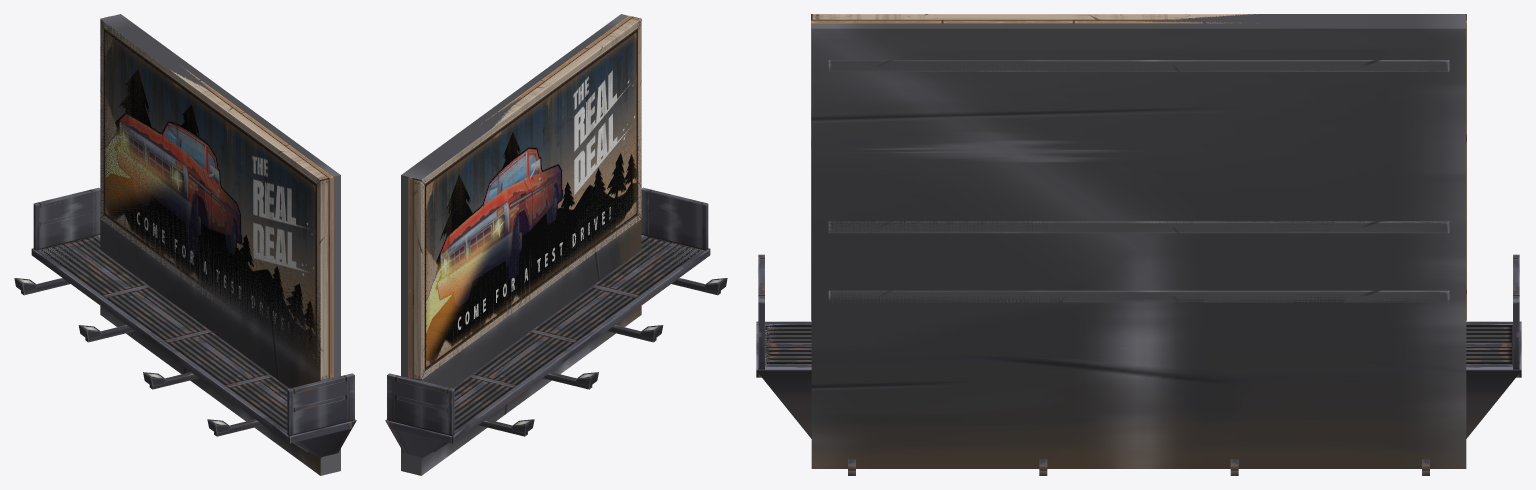
The model's file is billboard02.FBX.
3 views of the same model, side by side, from view 1: azimuth 30°, elevation 25°; view 2: azimuth 150°, elevation 25°; view 3: azimuth 270°, elevation 25° (orthographic). The views are drawn at different scales.
Visible parts, largest first — view 1: billboard02, billboard02_COL; view 2: billboard02, billboard02_COL; view 3: billboard02_COL, billboard02.
Part boxes in pixels (box(x1,y1,x2,y2)): billboard02: box(14, 15, 352, 452); billboard02_COL: box(39, 14, 356, 475); billboard02: box(389, 15, 727, 452); billboard02_COL: box(385, 14, 704, 475); billboard02_COL: box(756, 14, 1521, 468); billboard02: box(756, 14, 1521, 475).
Size of the model in its own units: 191 by 451 by 700.
